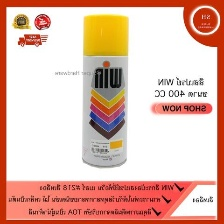aerosol_cans: (79, 11, 131, 171)
